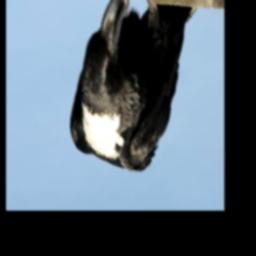Crow: (68, 0, 198, 178)
